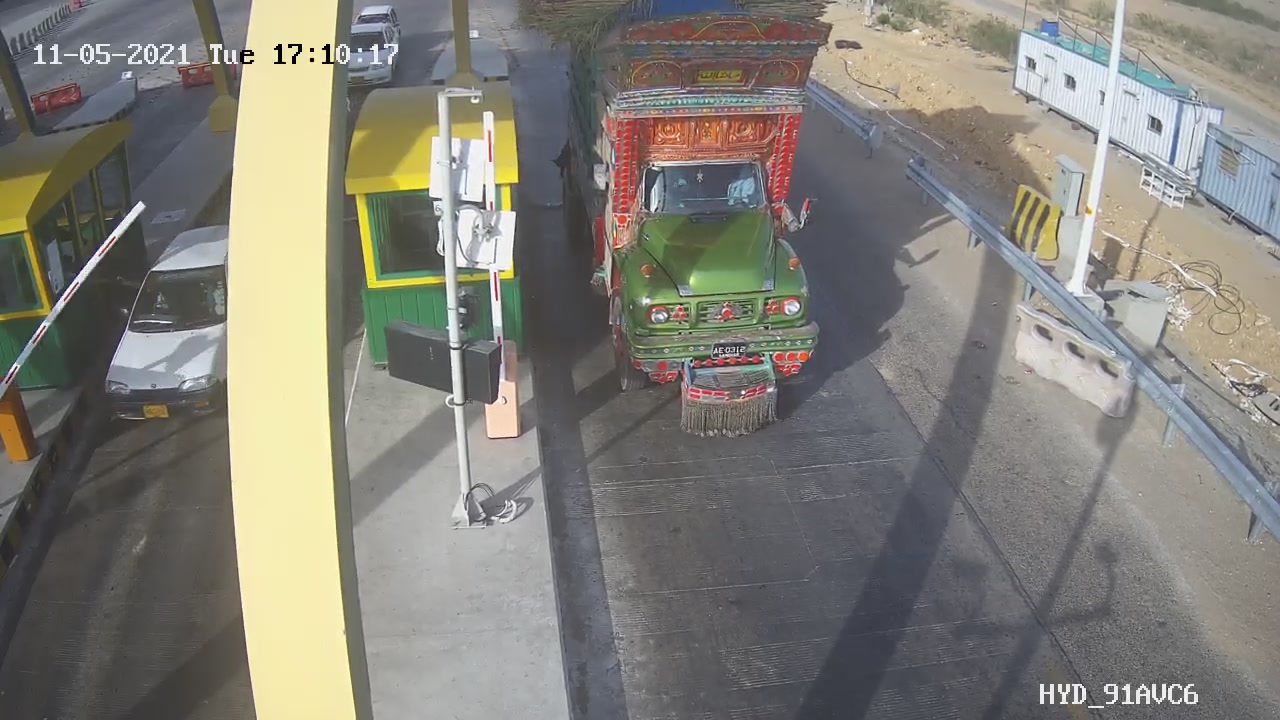F5: (537, 1, 874, 459)
